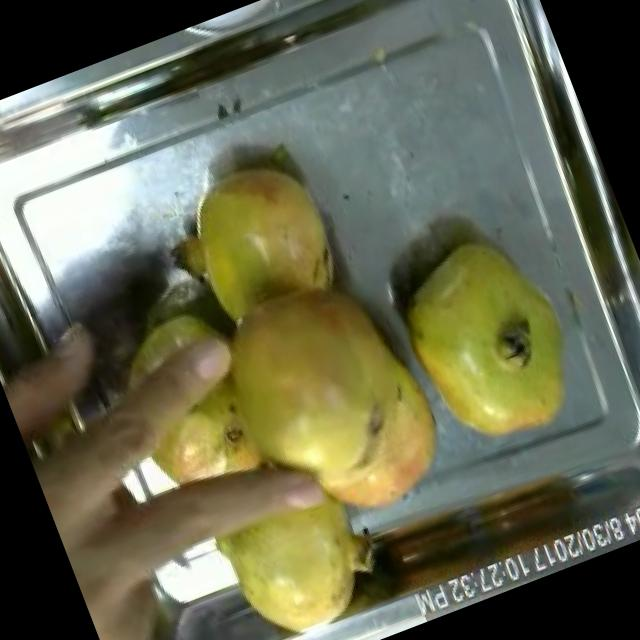fruit: (374, 214, 604, 474), (65, 280, 288, 526), (140, 130, 364, 350), (188, 459, 410, 640)
